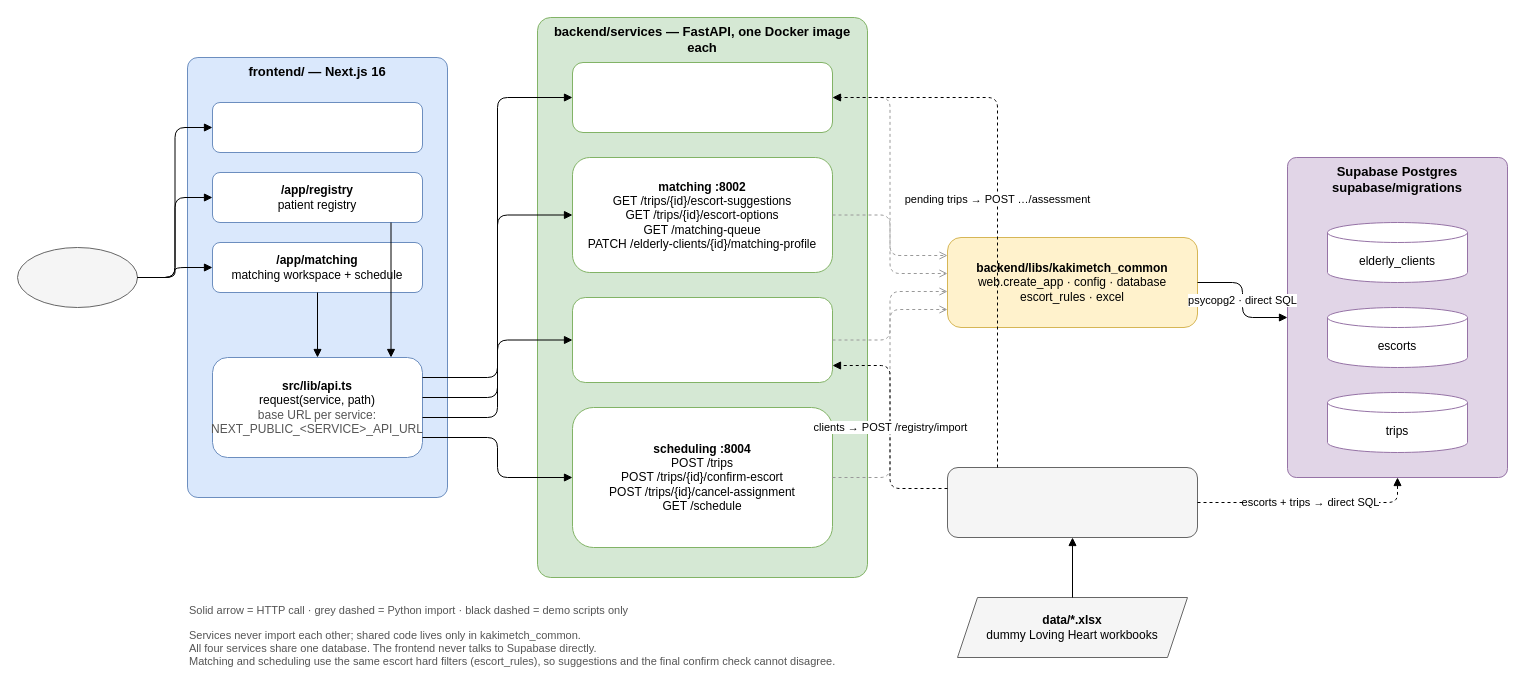
Image size: 1525x700. Some labels were removed from this diagram. Each missing label, with the centre of its shape:
/ landing page: pixel 317 127
Admin (Rose) browser: pixel 77 277
assessment :8001 POST /trips/{id}/assessment: pixel 702 97
backend/scripts load_demo_data prepare_matching_demo: pixel 1072 502
registry :8003 /registry/patients (CRUD, restore) POST /registry/import (.xlsx): pixel 702 339
